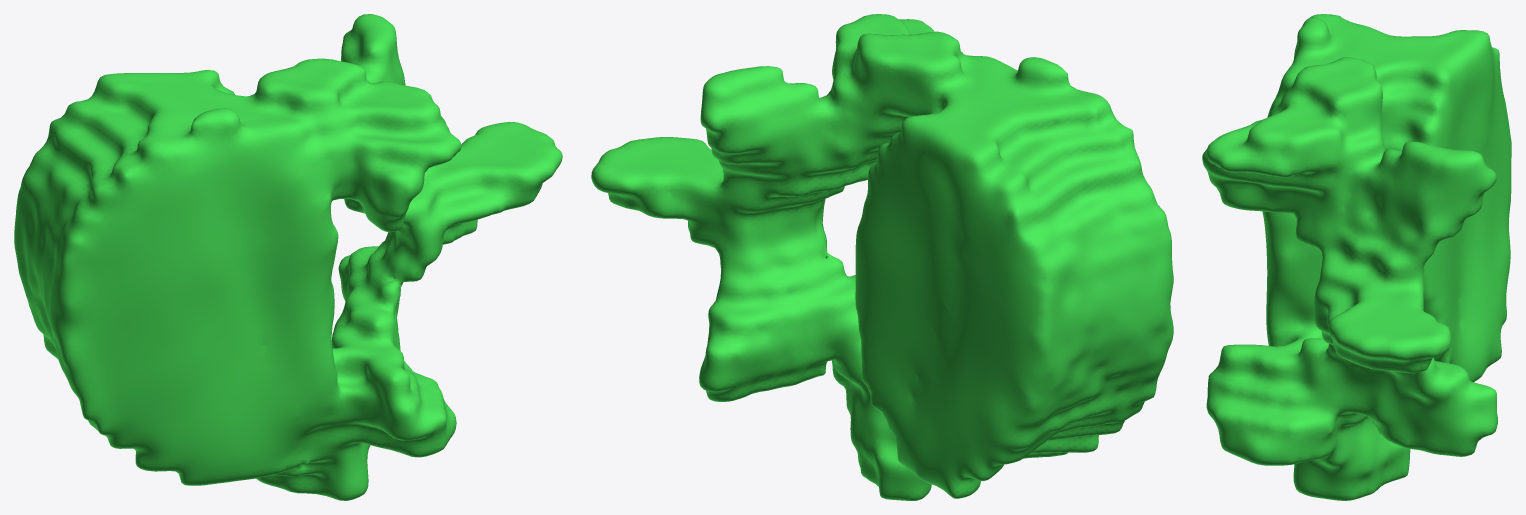
The model's file is vertebra_24.glb.
3 views of the same model, side by side, from view 1: azimuth 30°, elevation 25°; view 2: azimuth 150°, elevation 25°; view 3: azimuth 270°, elevation 25° (orthographic). The views are drawn at different scales.
Parts seen in each view (by area): view 1: vertebra_smth24_msk; view 2: vertebra_smth24_msk; view 3: vertebra_smth24_msk.
Boxes of the visible parts, <box> form: vertebra_smth24_msk: <box>14,14,562,500</box>; vertebra_smth24_msk: <box>591,14,1173,500</box>; vertebra_smth24_msk: <box>1202,14,1511,500</box>.
Size of the model in its own units: 87.22 by 66.55 by 45.95.
